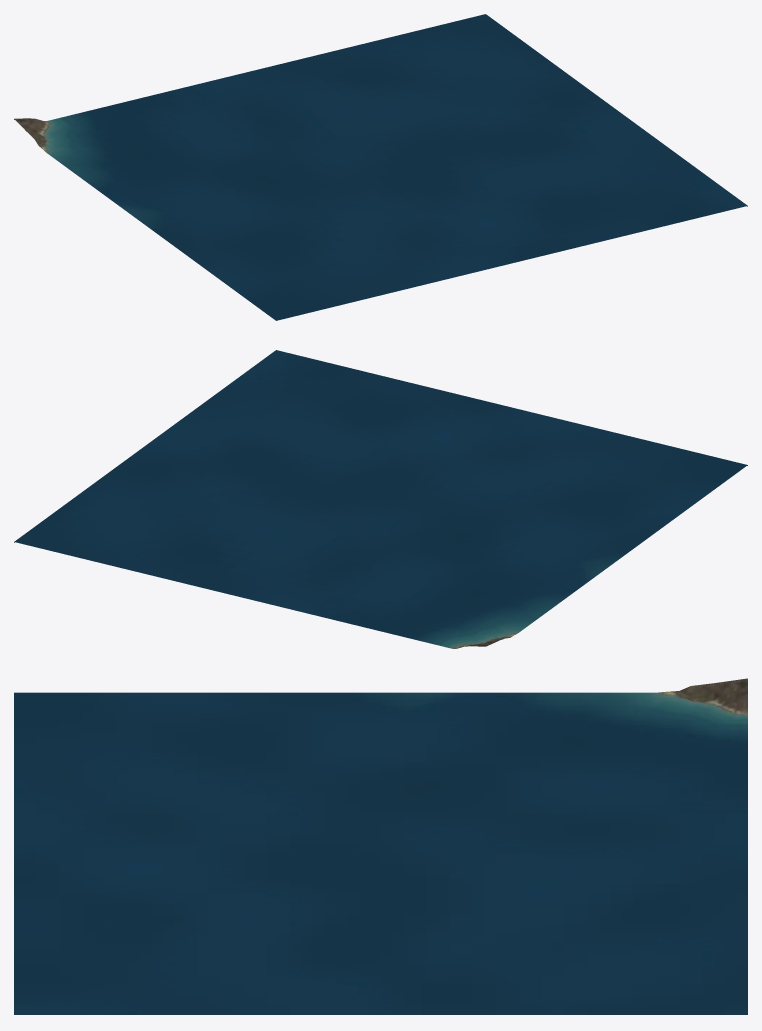
3 views of the same model, one above another, from view 1: azimuth 30°, elevation 25°; view 2: azimuth 150°, elevation 25°; view 3: azimuth 270°, elevation 25° (orthographic). The views are drawn at different scales.
Bounding box in the file's own units: 500 × 11.46 × 481.
Materials: 1 (1 with a texture image).
